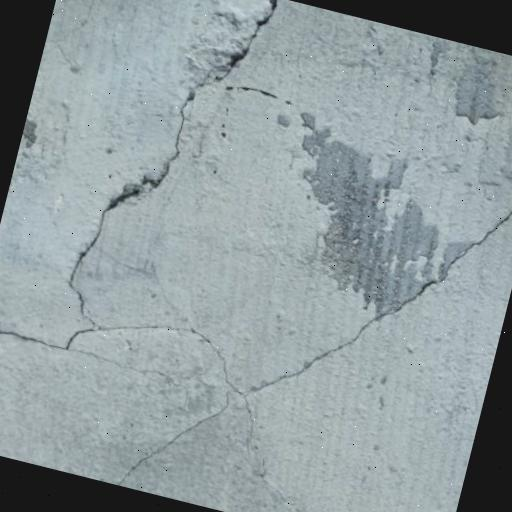spalling: (0, 0, 282, 354), (255, 201, 512, 397), (103, 318, 237, 485)
